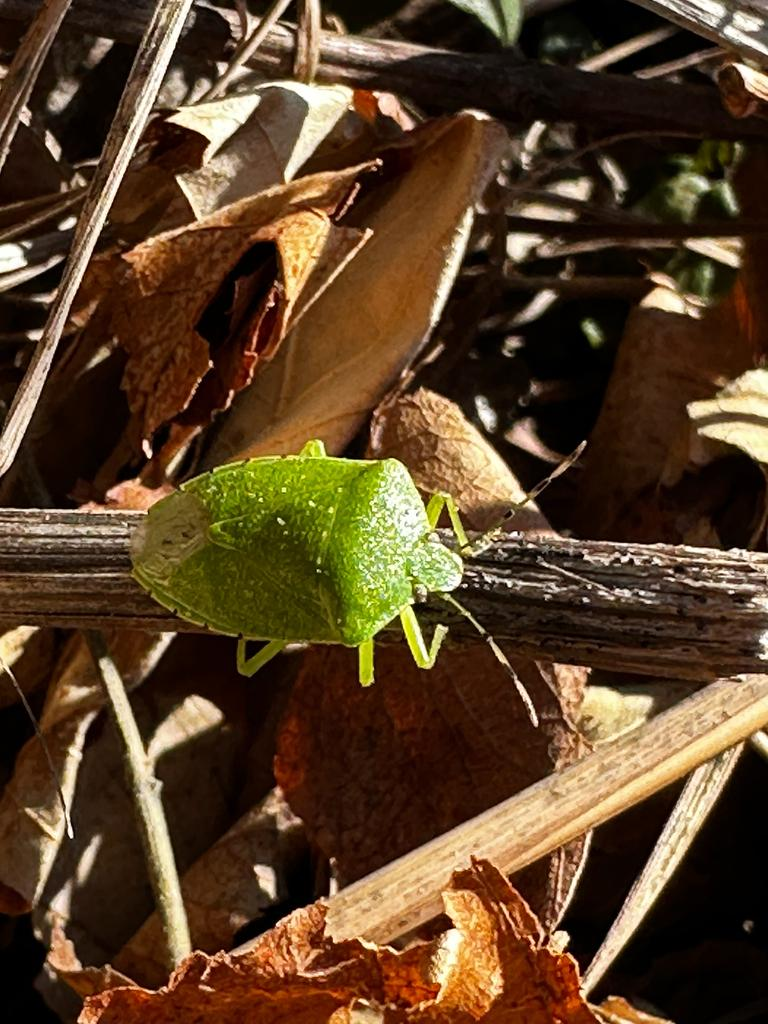stink_bugs: (88, 376, 610, 761)
